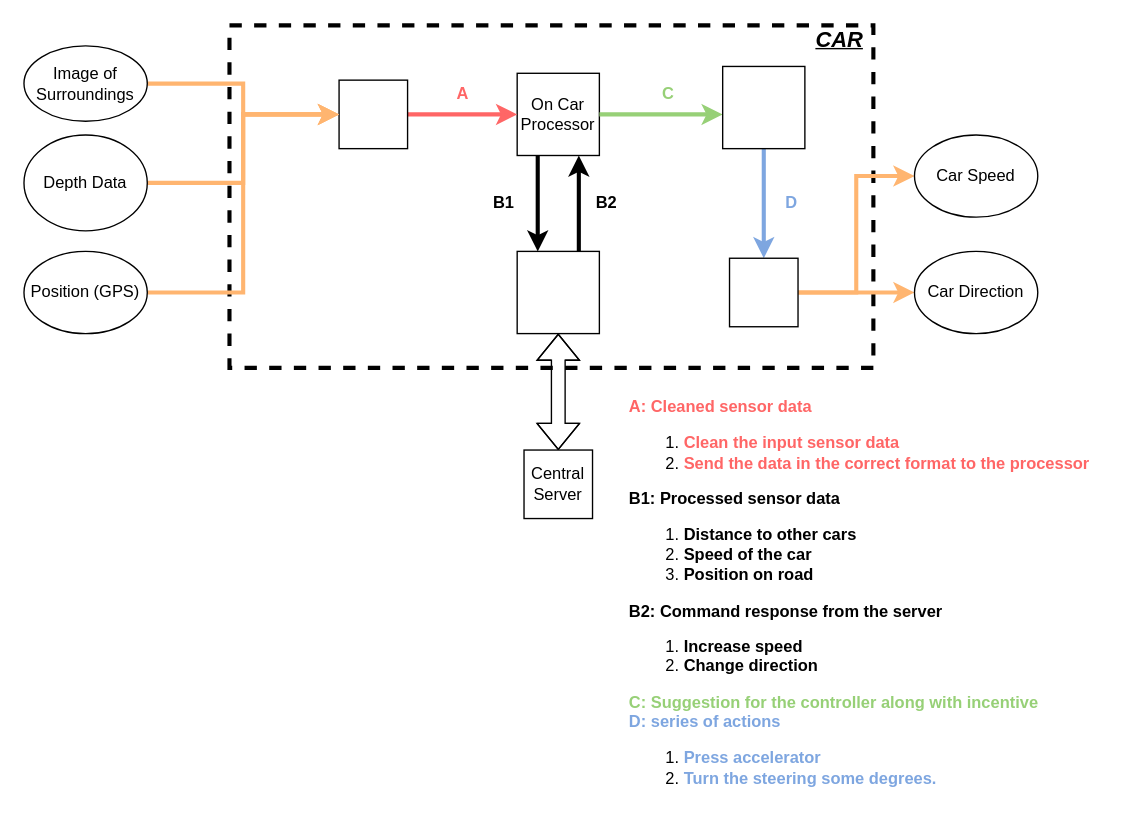
This 1130x830 diagram has some shape labels left out. Each missing label, with the centre of its shape:
Car Controller (Human standing): (x=763, y=107)
Car Physics: (x=763, y=292)
Comm Device: (x=557, y=292)
Sensors: (x=373, y=114)
